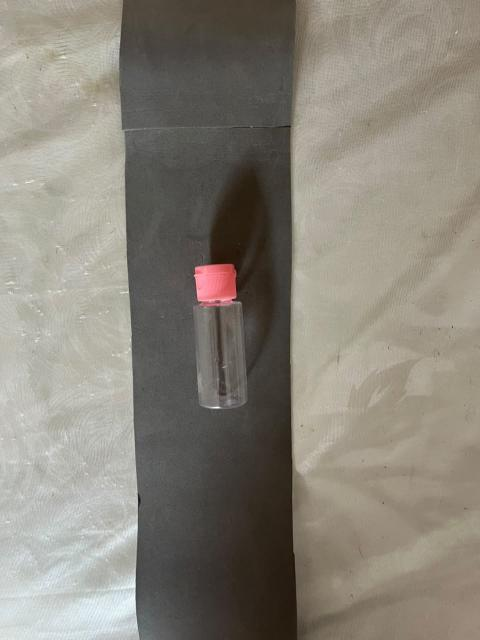PET: (124, 172, 342, 533)
